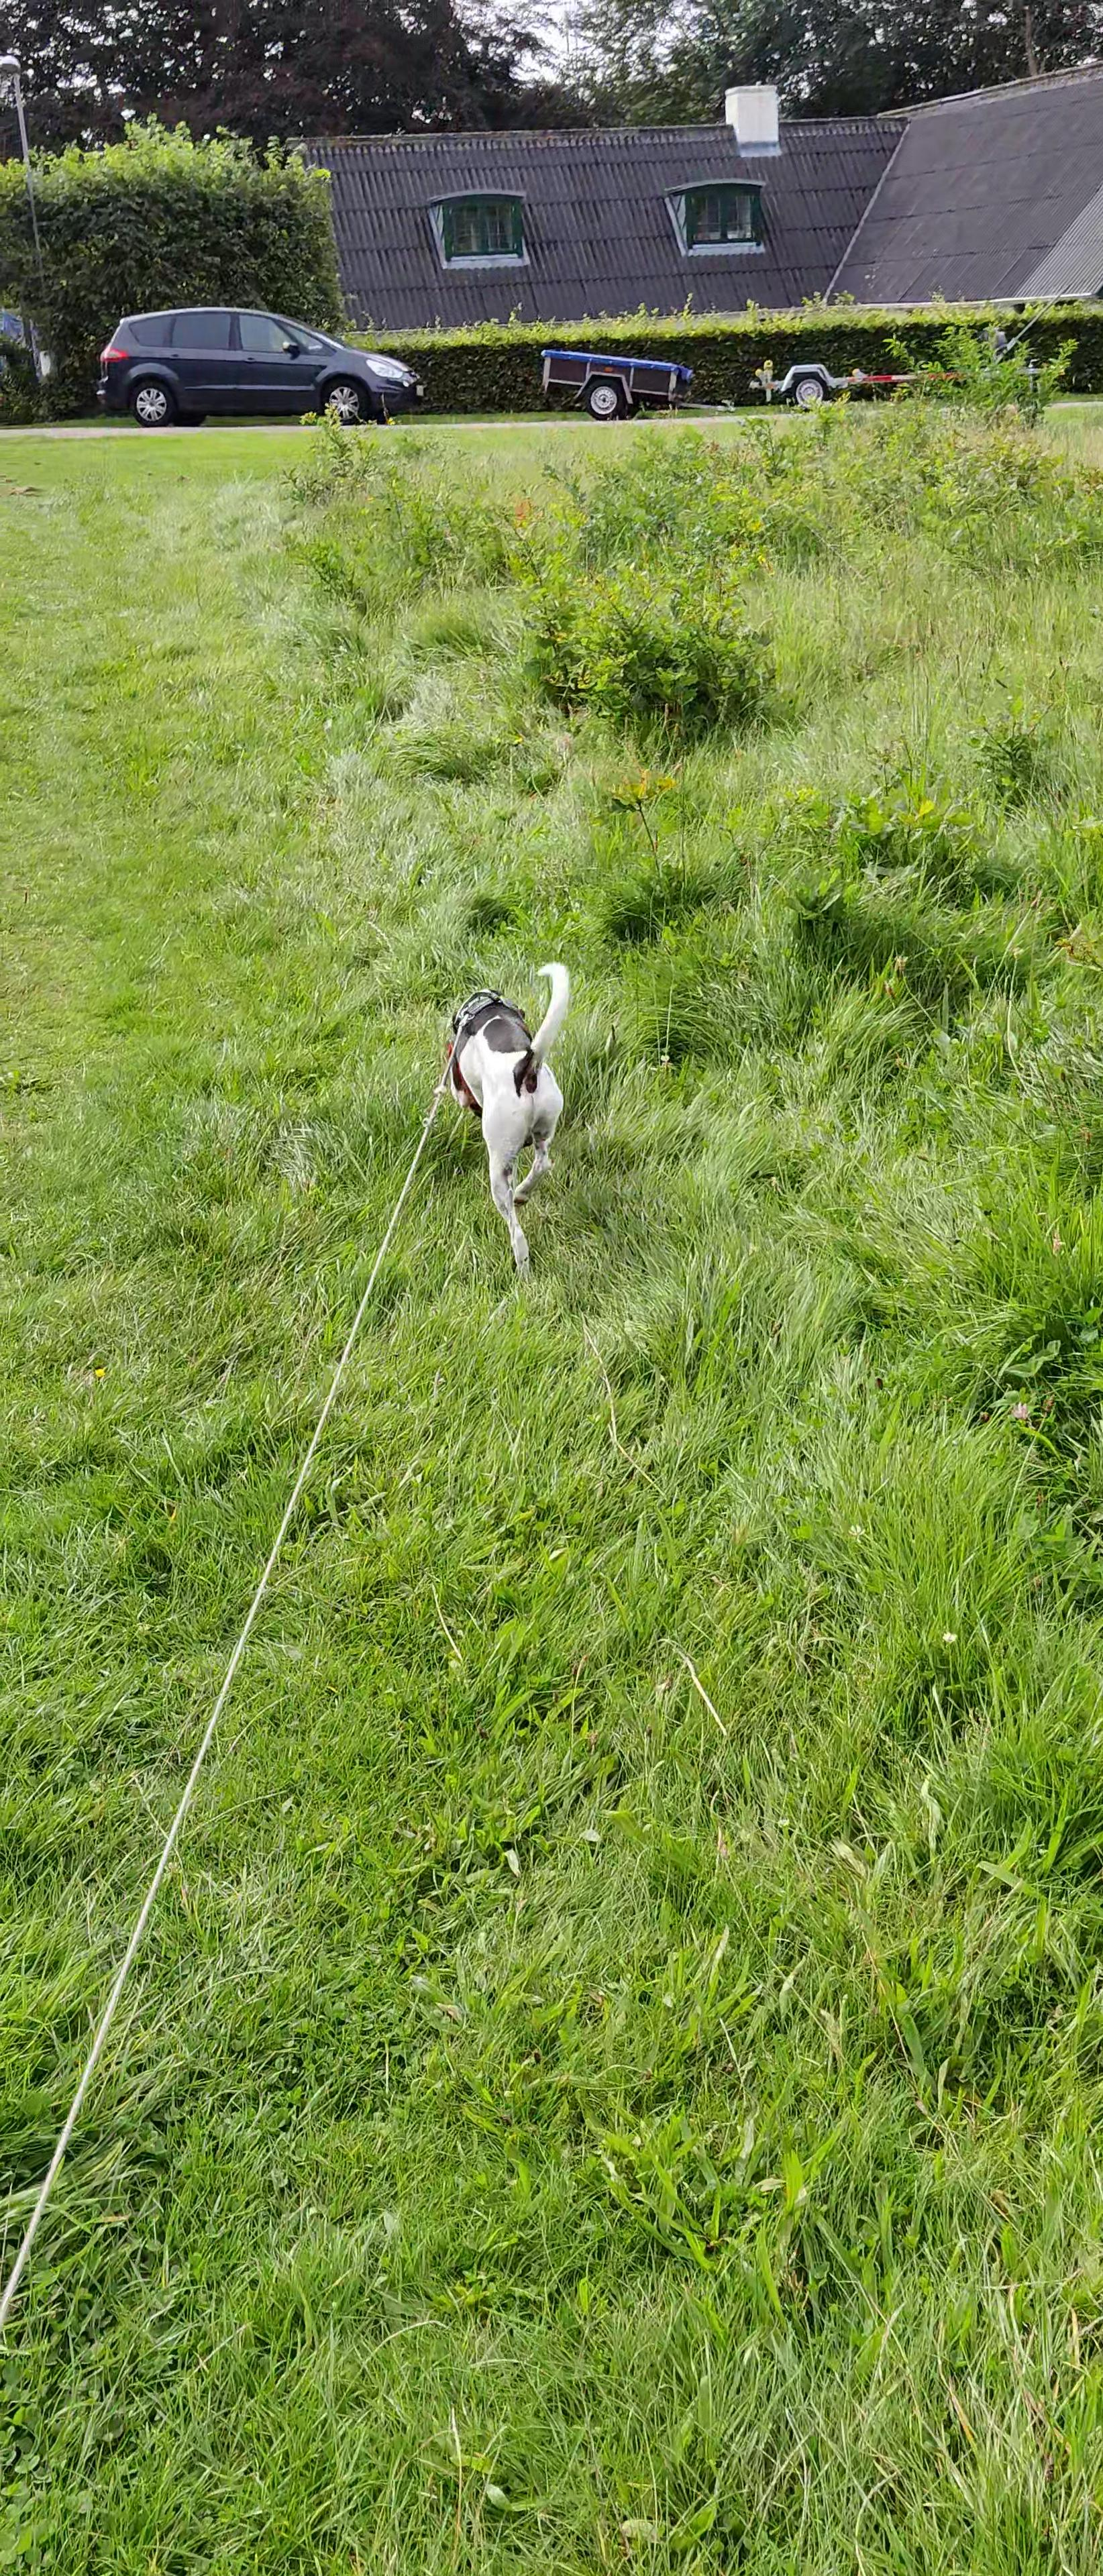Dog: (439, 954, 582, 1288)
